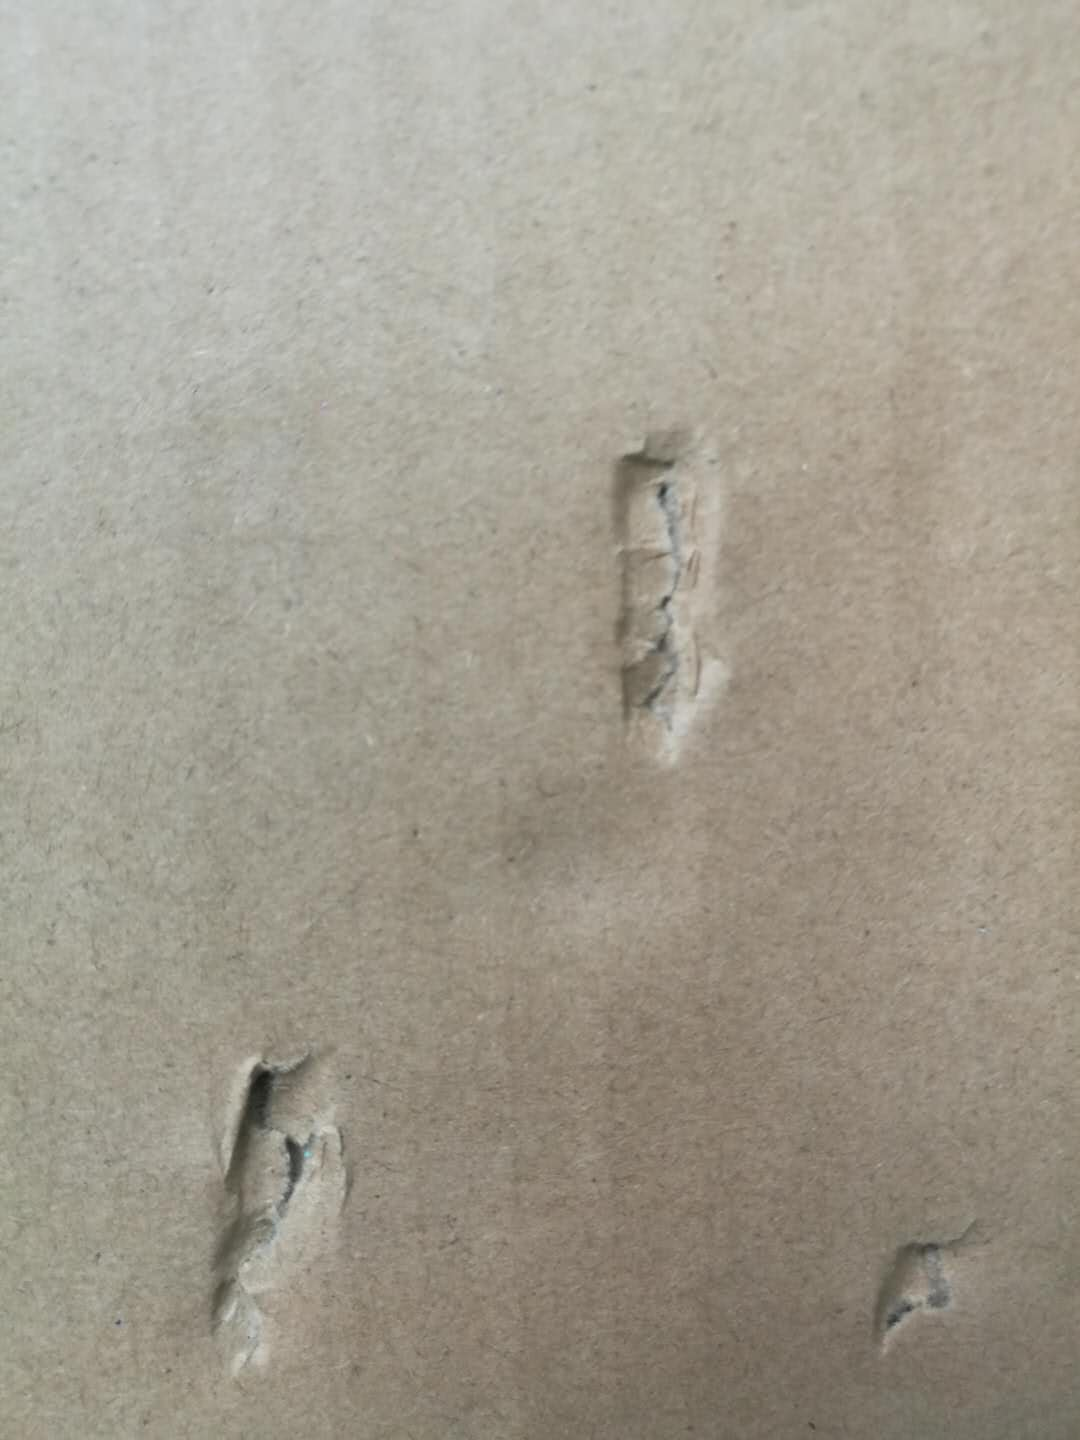defect: (483, 404, 775, 979), (174, 1025, 374, 1395), (852, 1195, 1011, 1375)
